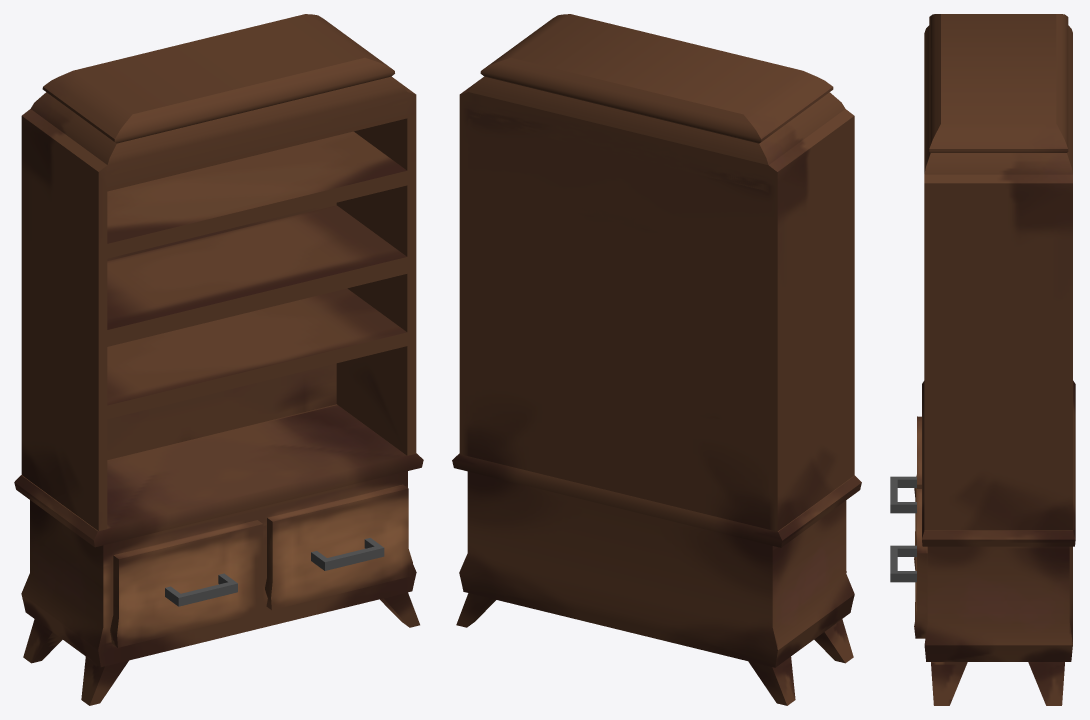
Rendered from Shelf 2.glb.
3 views of the same model, side by side, from view 1: azimuth 30°, elevation 25°; view 2: azimuth 150°, elevation 25°; view 3: azimuth 270°, elevation 25° (orthographic). The views are drawn at different scales.
Visible parts, largest first — view 1: Cube, Cube.001, Cube.002; view 2: Cube; view 3: Cube, Cube.001, Cube.002.
Part boxes in pixels (bbox=[...]): Cube: bbox=[14, 14, 423, 705]; Cube.001: bbox=[311, 538, 384, 570]; Cube.002: bbox=[165, 573, 237, 606]; Cube: bbox=[452, 14, 861, 705]; Cube: bbox=[914, 14, 1075, 705]; Cube.001: bbox=[890, 545, 916, 582]; Cube.002: bbox=[890, 476, 916, 513].
Size of the model in its own units: 3.95 by 6.54 by 1.97.
2 materials, 1 textured.
